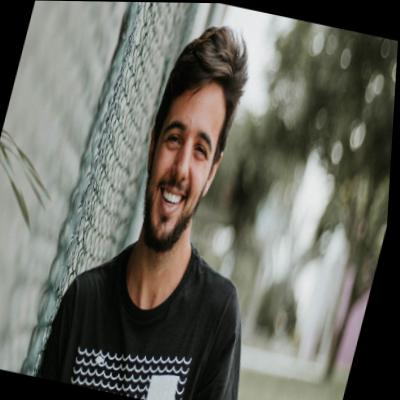happy: (130, 44, 245, 251)
